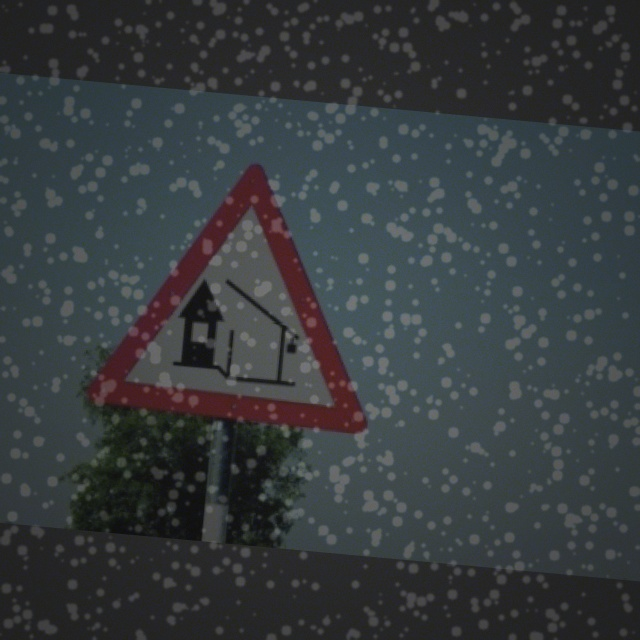Barrier_Ahead: (93, 148, 391, 438)
